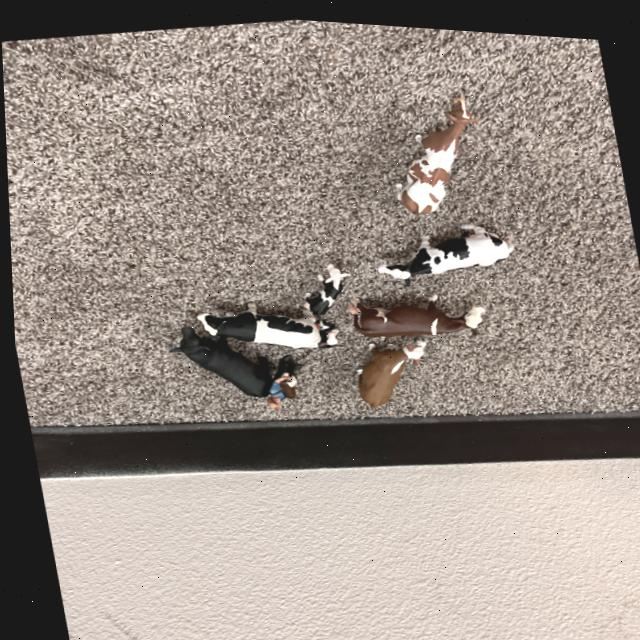cow: (388, 81, 479, 216), (166, 313, 280, 400), (370, 211, 514, 279), (336, 309, 431, 407), (193, 292, 325, 348), (346, 286, 484, 334), (298, 256, 349, 317), (273, 368, 300, 398), (314, 315, 337, 343)
person: (259, 350, 297, 408)
